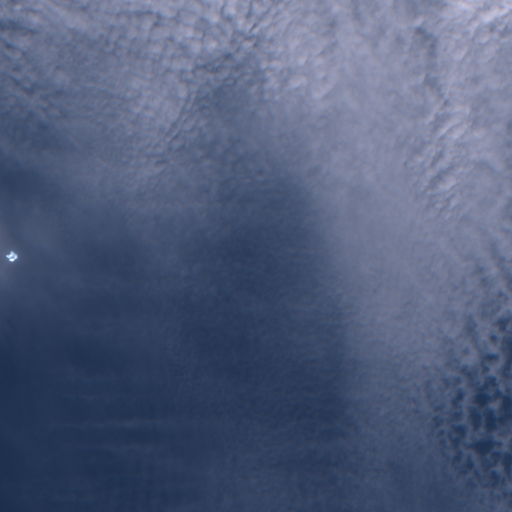Iceberg: (6, 251, 17, 261)
